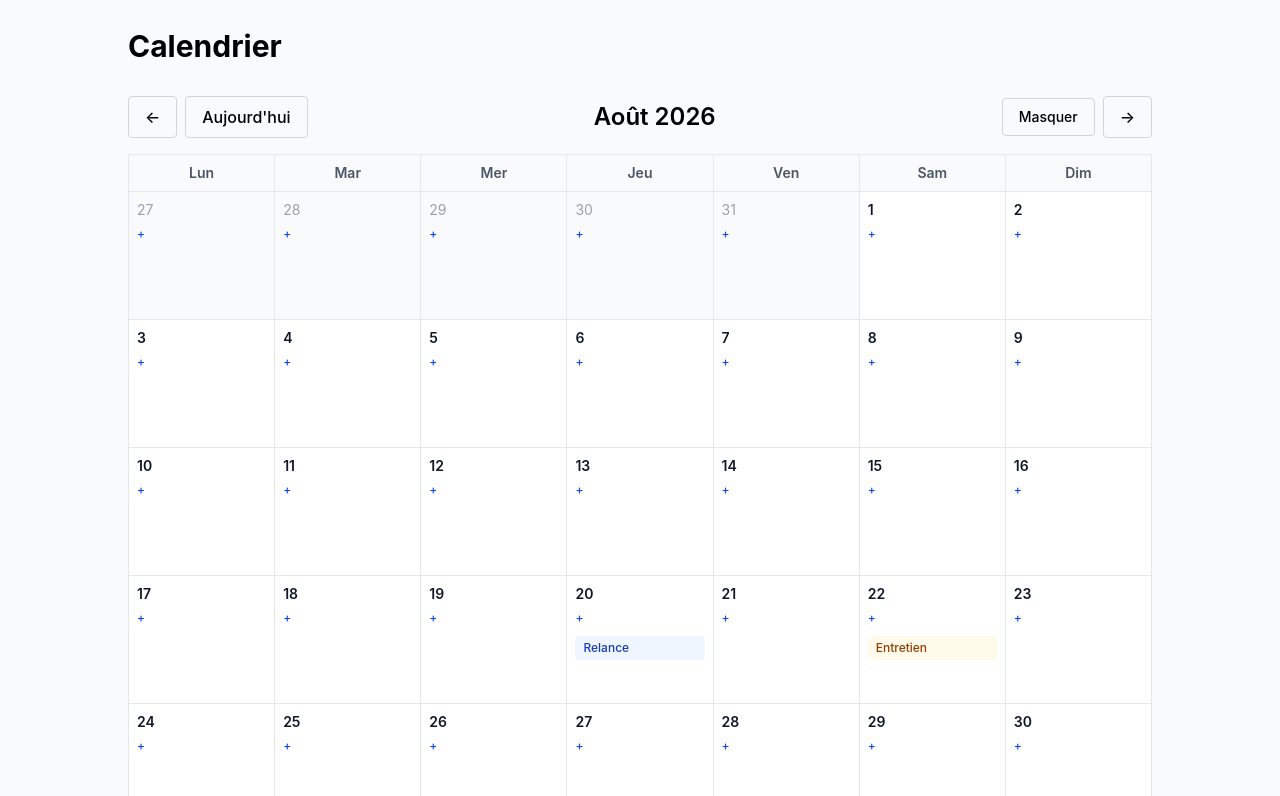
Test: CalendarPage › can hide and show the monthly calendar
The image size is (1280, 796).
Click the button with aria-label "Masquer le calendrier".
click(1048, 117)  # box [1002,98,1095,136]
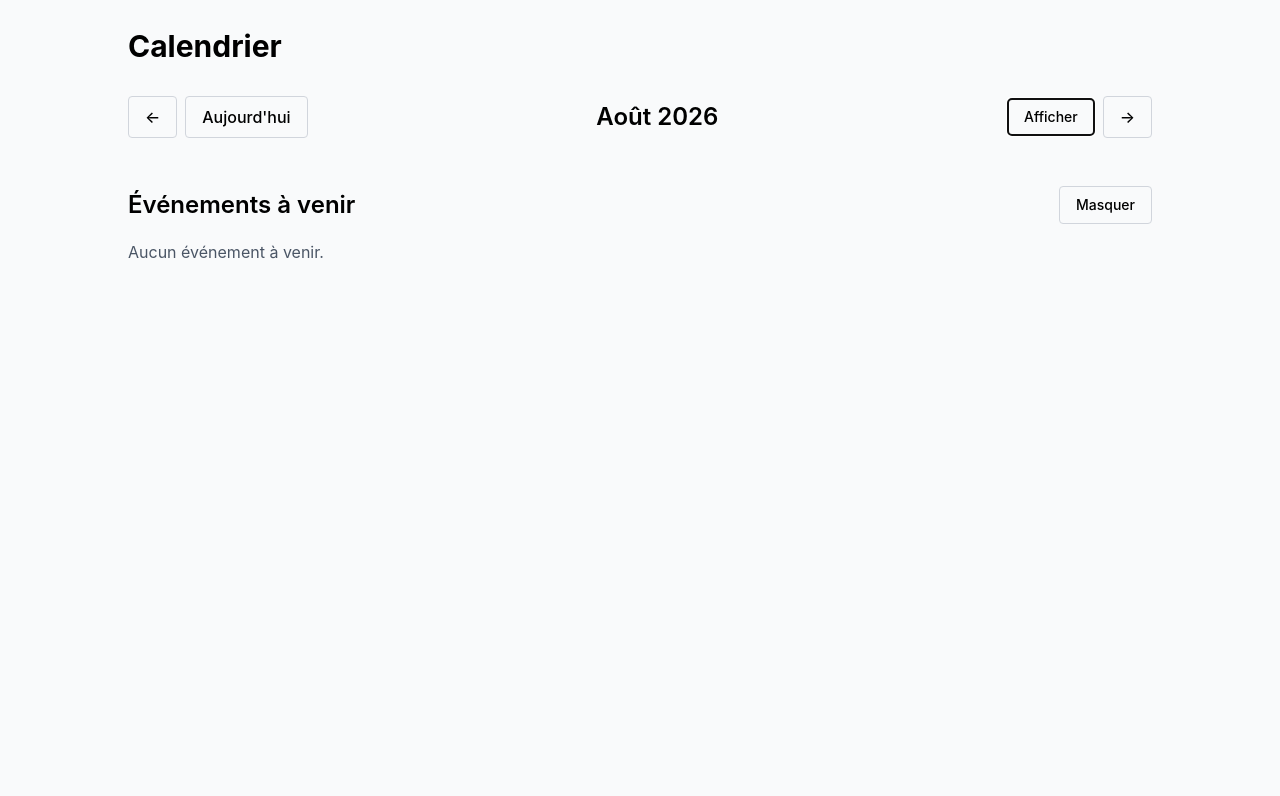
Click the button with aria-label "Afficher le calendrier".
click(1051, 117)  # box [1007,98,1095,136]
(page scrolled)
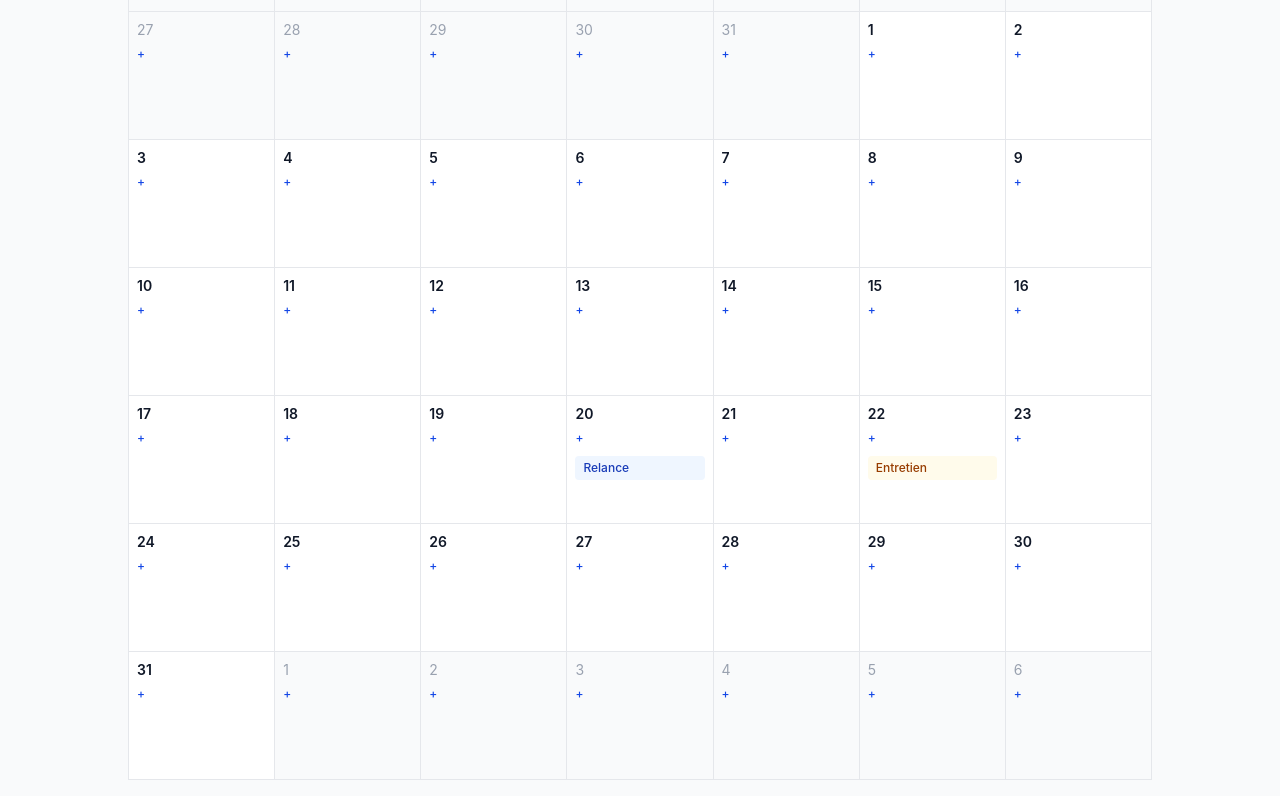
Expected: the table named "Calendrier août 2026" is shown
